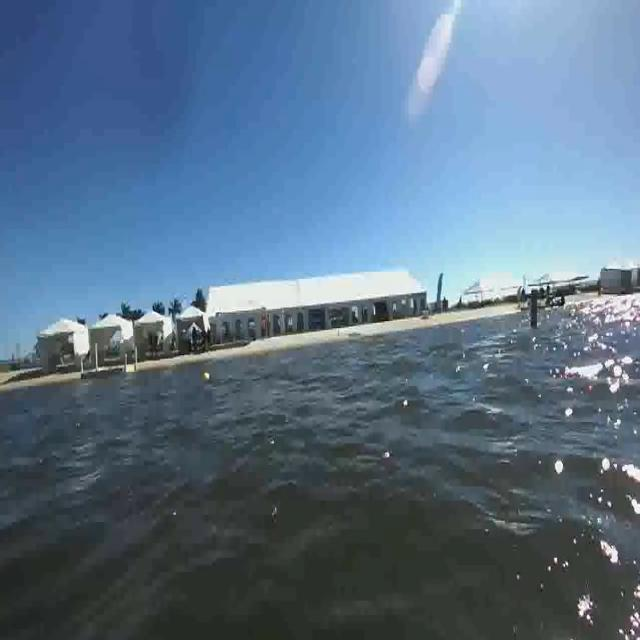yellow-buoy: (202, 370, 212, 384)
